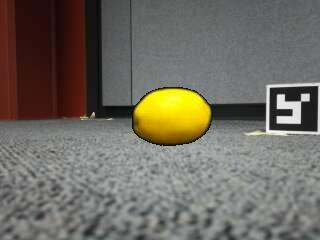lemon: (135, 89, 212, 146)
